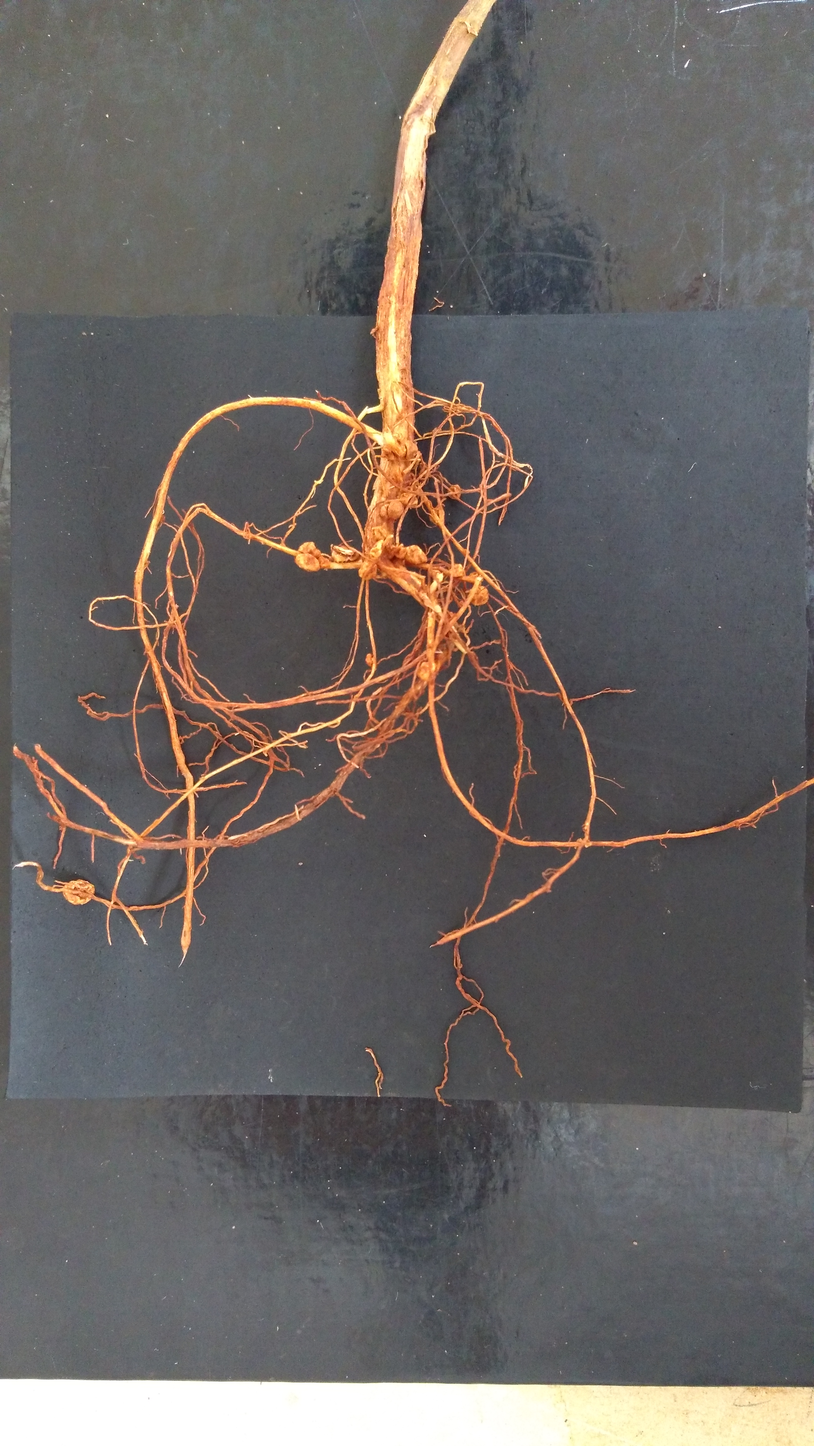nodule: (295, 542, 330, 572), (62, 879, 95, 905), (375, 557, 405, 579), (397, 571, 421, 594), (331, 545, 360, 563), (380, 500, 405, 520), (405, 545, 427, 565), (469, 585, 489, 605), (416, 662, 437, 681), (358, 561, 377, 580), (397, 492, 418, 507), (429, 507, 445, 526), (370, 540, 383, 560), (405, 440, 418, 460), (390, 545, 407, 559), (374, 526, 388, 542), (448, 484, 461, 499), (382, 446, 395, 461), (449, 564, 463, 577), (365, 653, 373, 667), (463, 548, 470, 554)
